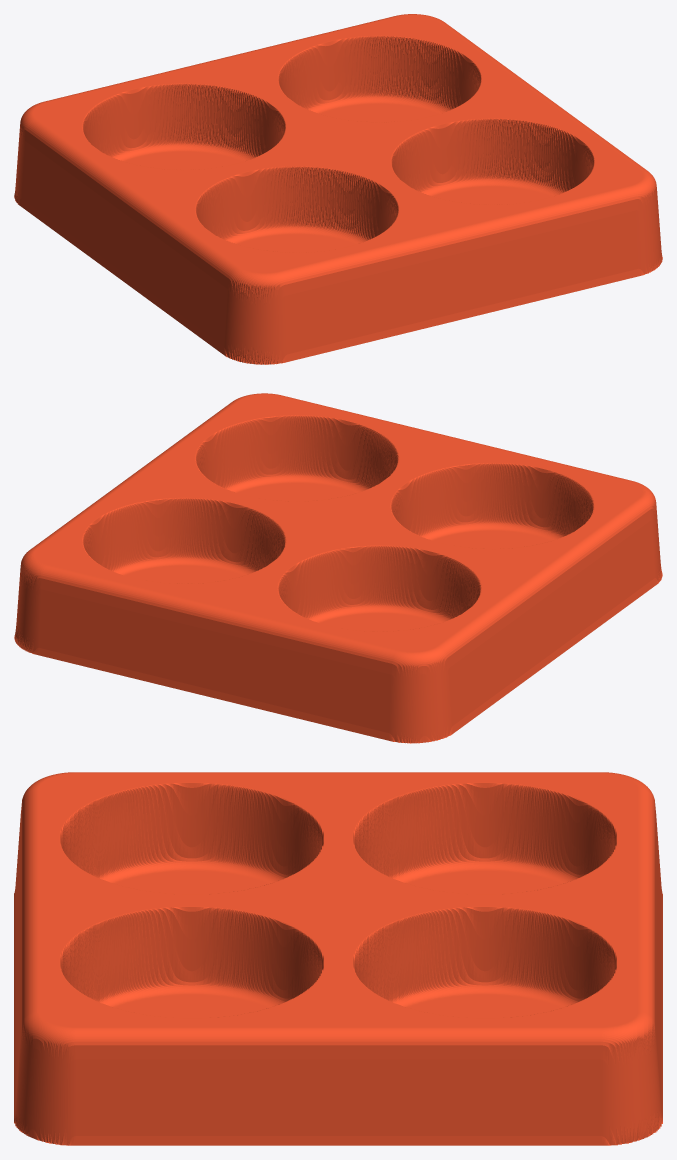
Rendered from mold.glb.
3 renders of one model, top to bottom at view 1: azimuth 30°, elevation 25°; view 2: azimuth 150°, elevation 25°; view 3: azimuth 270°, elevation 25°, orthographic. The views are drawn at different scales.
Visible parts, largest first — view 1: geometry_0; view 2: geometry_0; view 3: geometry_0.
Part boxes in pixels (x1,y1,x2,y2): geometry_0: [14, 14, 662, 364]; geometry_0: [14, 393, 662, 743]; geometry_0: [14, 772, 662, 1145].
Size of the model in its own units: 0.0952 by 0.0175 by 0.0952.
